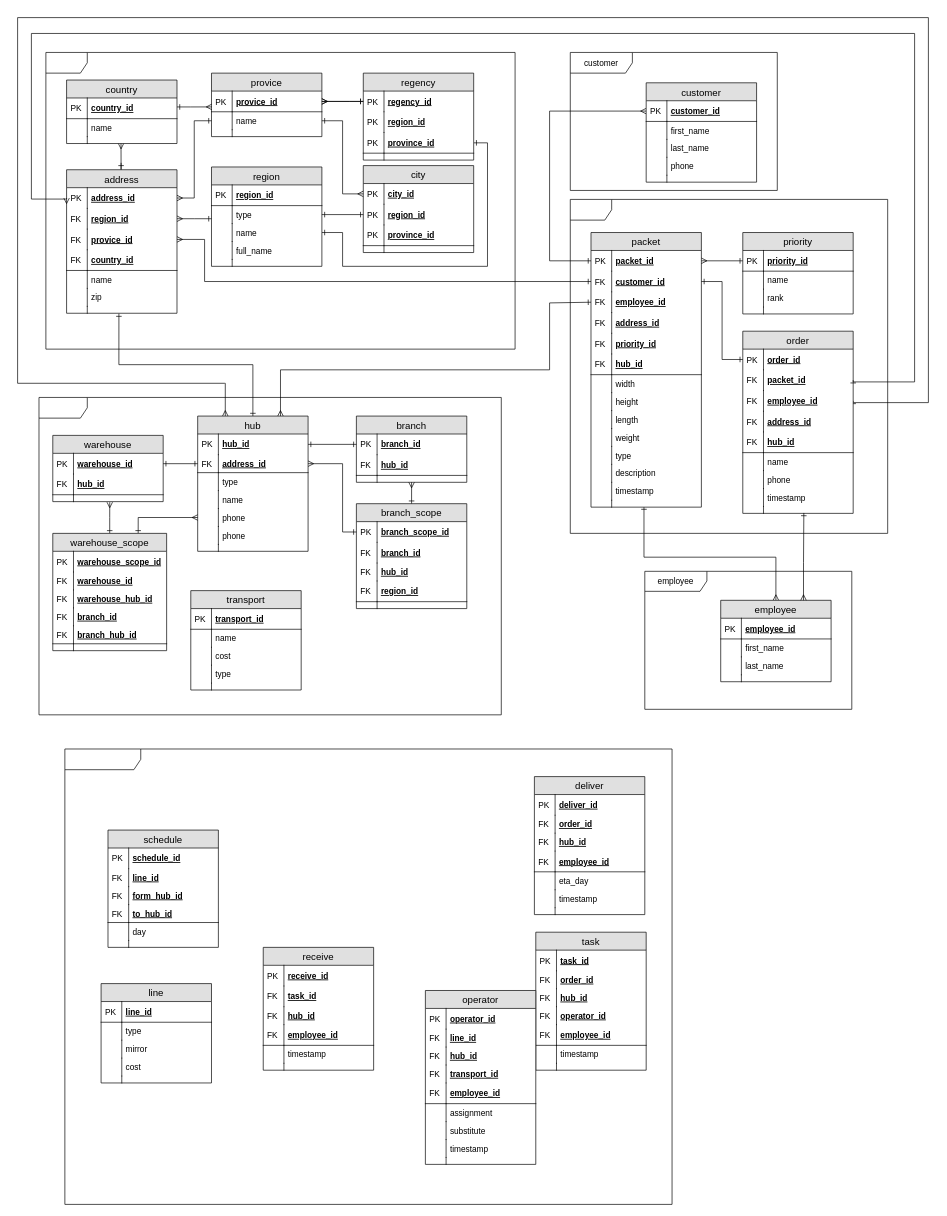
This 947x1216 diagram has some shape labels left out. The shapes that lost their labels are listed below. From the top down, each one's box as (x1, y1, x2, y2) in pixels, then its label:
(45, 52, 515, 349): area
(570, 199, 888, 533): business
(38, 397, 501, 715): resource
(64, 748, 672, 1204): operational
